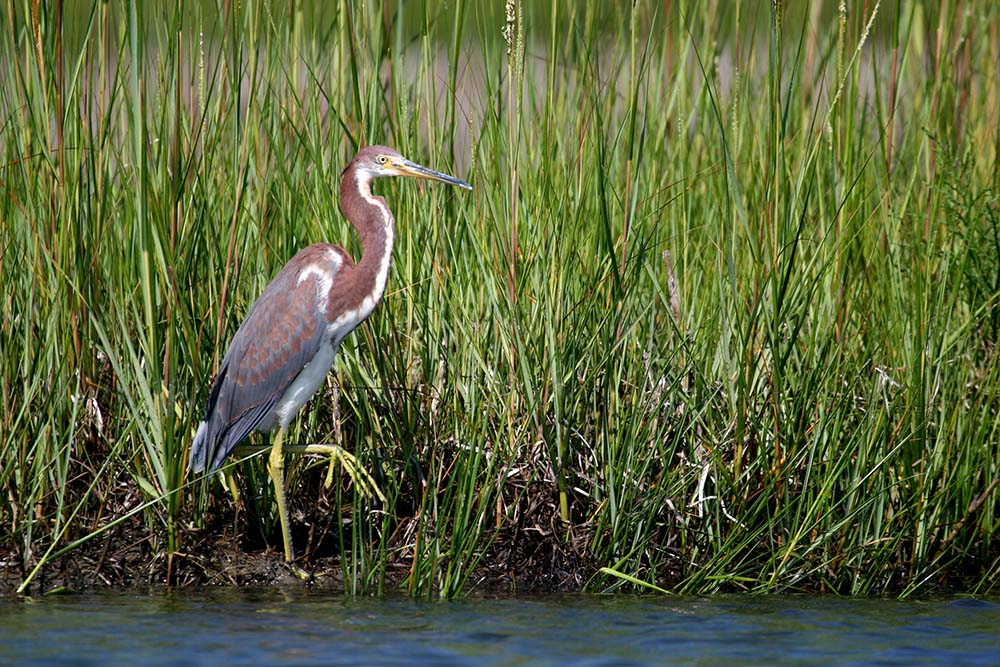heron: (192, 140, 476, 576)
